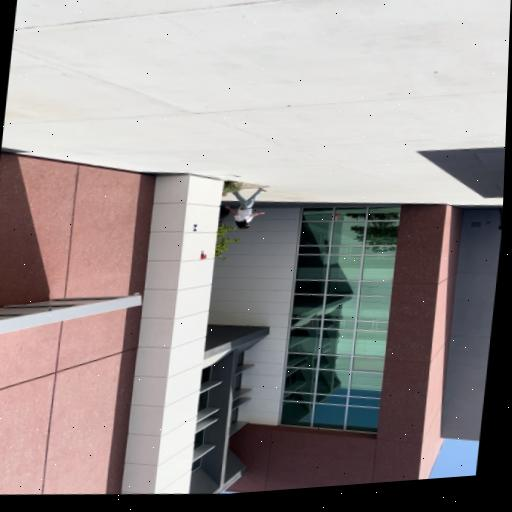target6: (192, 224, 198, 232)
